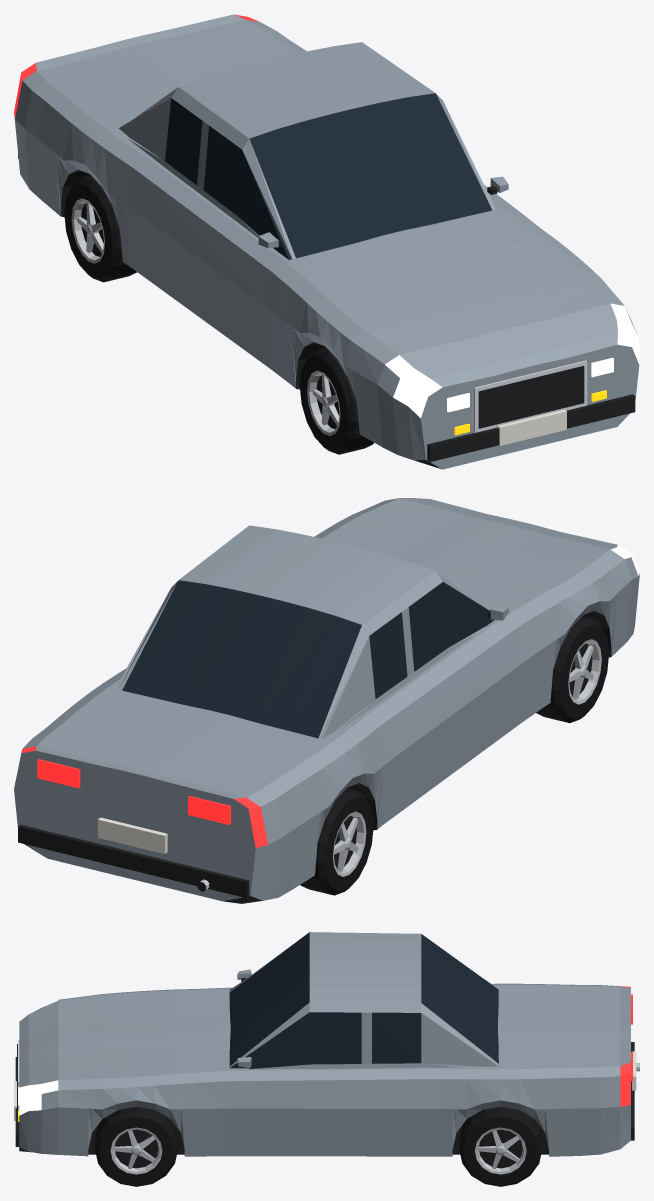
File: sedan-01.glb
The picture shows the model from 3 angles, top to bottom: view 1: azimuth 30°, elevation 25°; view 2: azimuth 150°, elevation 25°; view 3: azimuth 270°, elevation 25°; orthographic projection. The views are drawn at different scales.
Visible parts, largest first — view 1: Body, Wheel_FR, Wheel_RR; view 2: Body, Wheel_RR, Wheel_FR; view 3: Body, Wheel_RL, Wheel_FL.
Boxes of the visible parts, box(x1,y1,x2,y2) form: Body: box(14, 14, 639, 469); Wheel_FR: box(299, 347, 373, 454); Wheel_RR: box(64, 175, 136, 282); Body: box(14, 498, 639, 903); Wheel_RR: box(300, 788, 373, 895); Wheel_FR: box(536, 616, 608, 723); Body: box(14, 932, 639, 1156); Wheel_RL: box(459, 1106, 542, 1186); Wheel_FL: box(95, 1106, 178, 1186).
Size of the model in its own units: 1.84 by 1.49 by 4.81.
